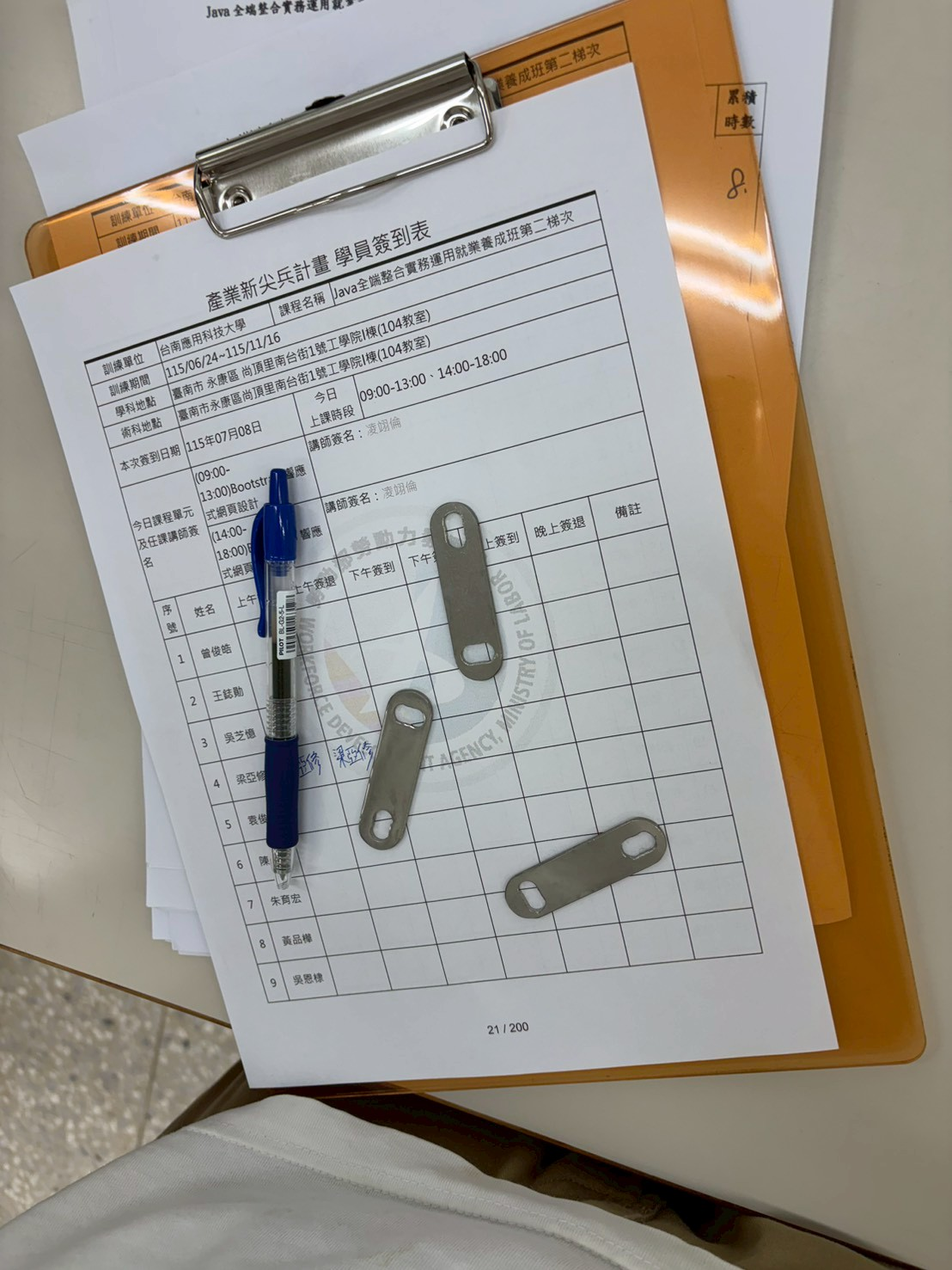Fe: (659, 802, 715, 986), (420, 506, 476, 690), (390, 679, 446, 849)
